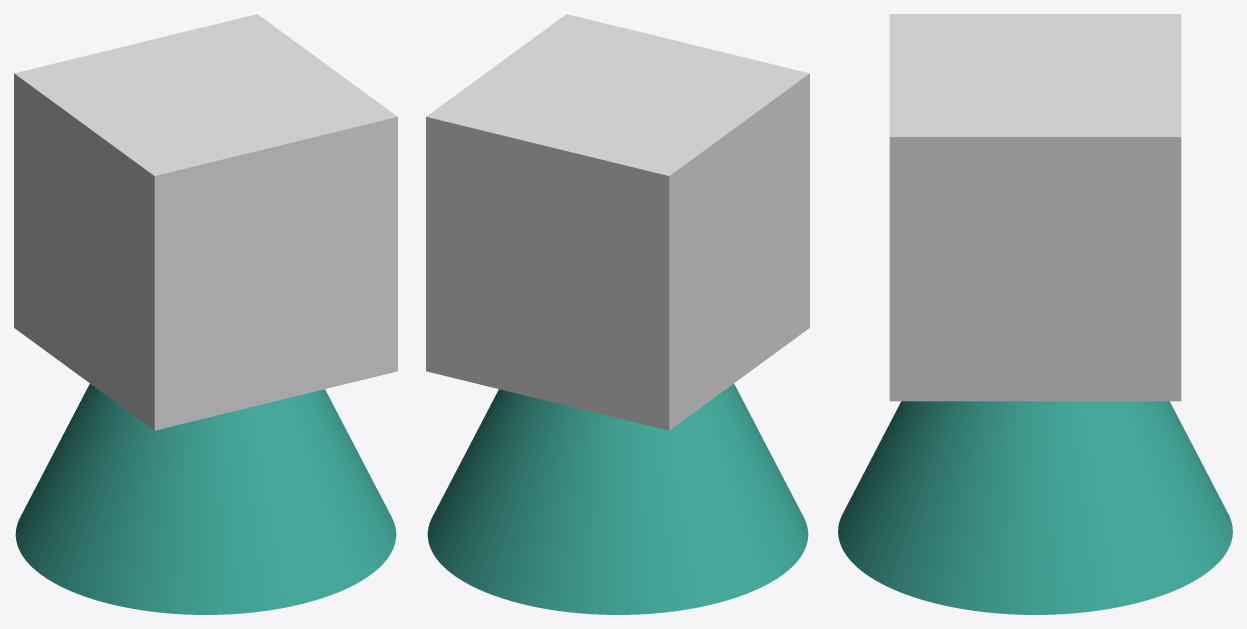
File: cone_turquoise_horizontal.glb
The picture shows the model from 3 angles, left to right: view 1: azimuth 30°, elevation 25°; view 2: azimuth 150°, elevation 25°; view 3: azimuth 270°, elevation 25°; orthographic projection. The views are drawn at different scales.
Parts seen in each view (by area): view 1: placeholder, Cone; view 2: placeholder, Cone; view 3: placeholder, Cone.
Part boxes in pixels (<box>): placeholder: <box>14,14,397,430</box>; Cone: <box>15,383,396,614</box>; placeholder: <box>426,14,809,430</box>; Cone: <box>427,383,808,614</box>; placeholder: <box>889,14,1181,401</box>; Cone: <box>838,401,1232,614</box>.
Bounding box in the file's own units: 1.34 × 1.71 × 1.34.
